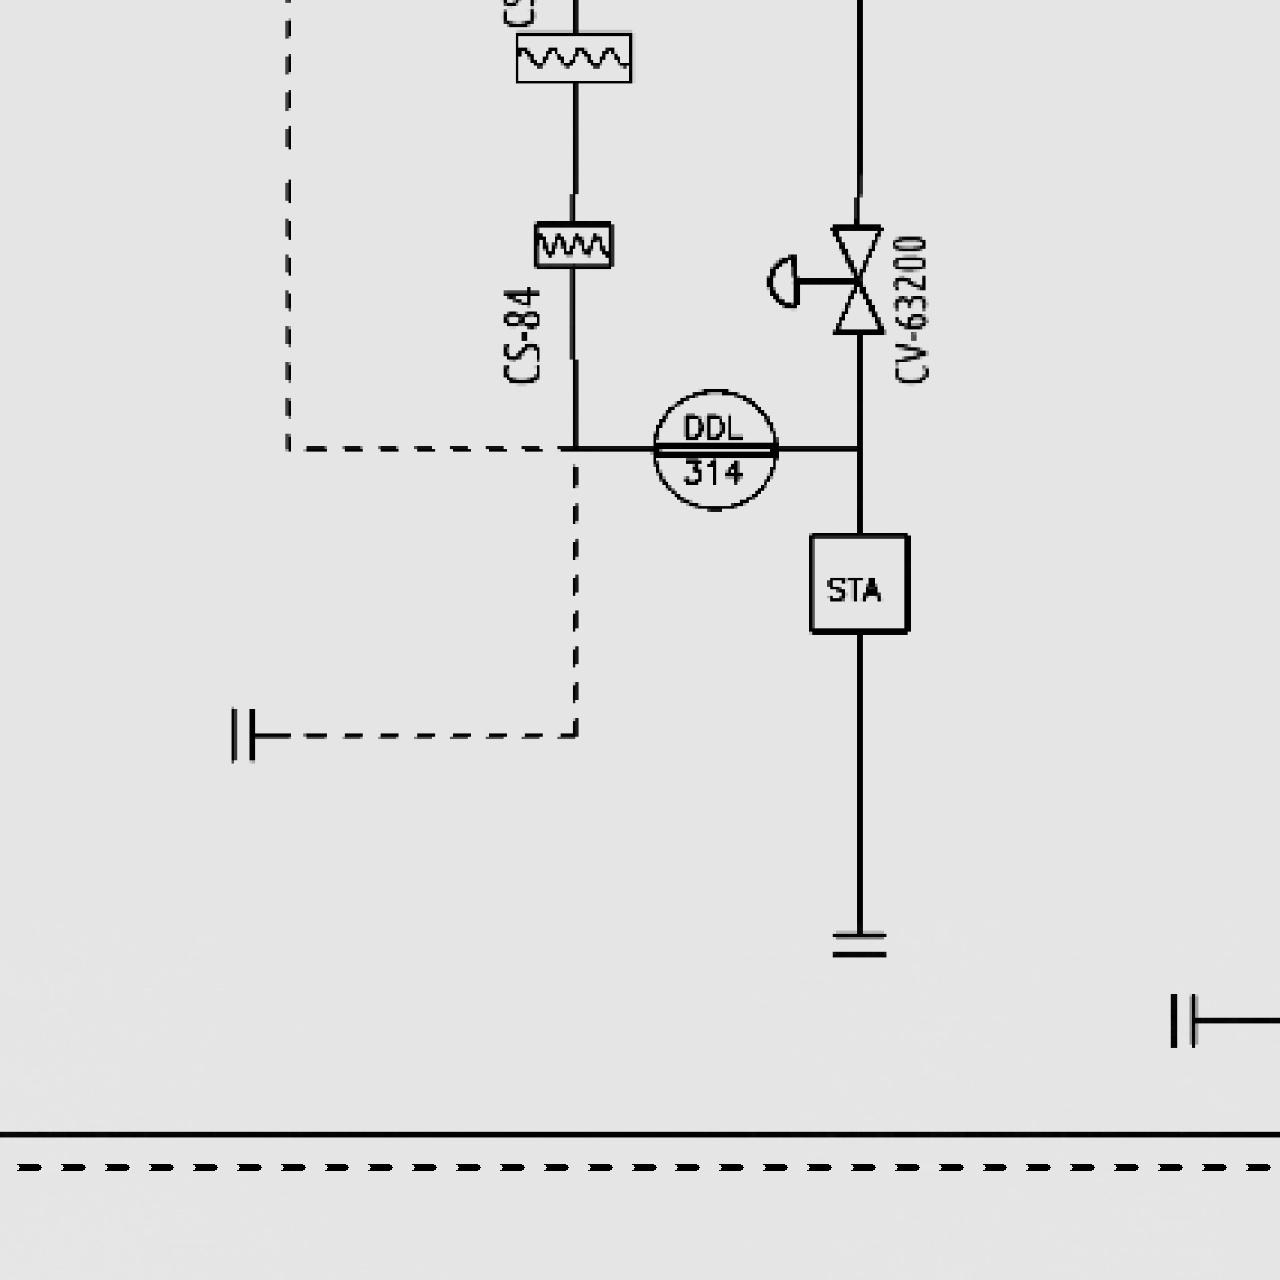Control-Panel: (646, 381, 782, 516)
